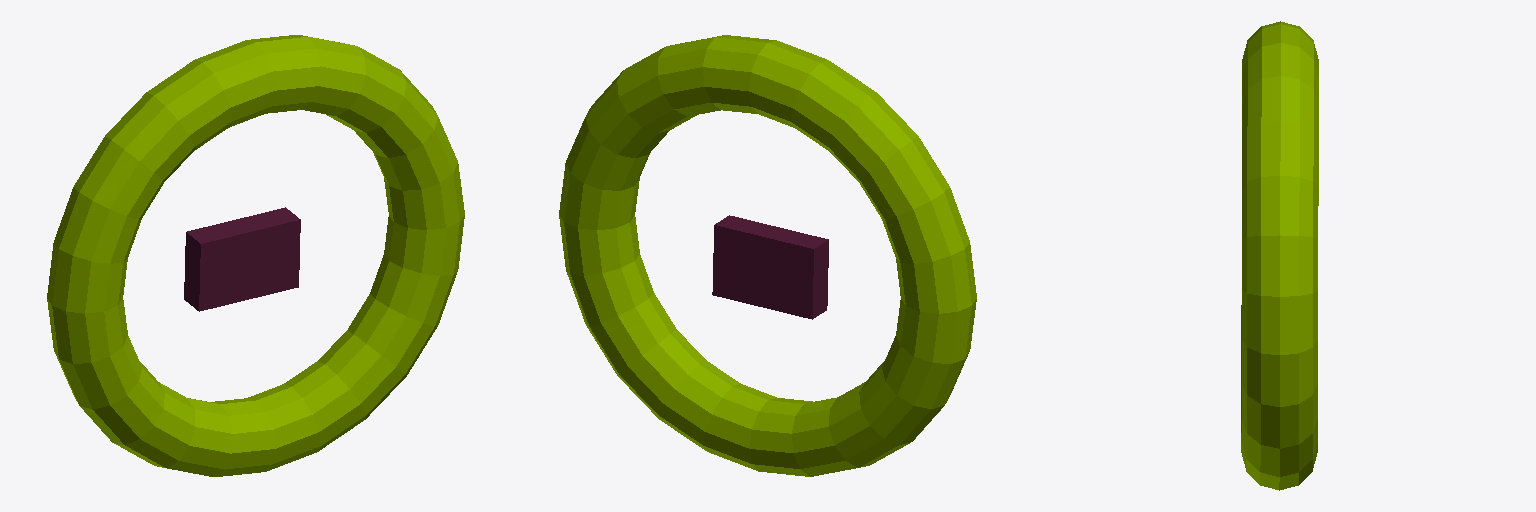
Rendered from lftire.obj.
The picture shows the model from 3 angles: view 1: azimuth 30°, elevation 25°; view 2: azimuth 150°, elevation 25°; view 3: azimuth 270°, elevation 25°; orthographic projection.
Parts seen in each view (by area): view 1: l_f_tire_002, l_f_tire_001; view 2: l_f_tire_002, l_f_tire_001; view 3: l_f_tire_002.
Part boxes in pixels (bbox=[...]): l_f_tire_002: bbox=[47, 35, 464, 476]; l_f_tire_001: bbox=[184, 207, 300, 311]; l_f_tire_002: bbox=[559, 35, 976, 476]; l_f_tire_001: bbox=[712, 215, 828, 319]; l_f_tire_002: bbox=[1241, 21, 1318, 490].
Size of the model in its own units: 6.52 by 6.52 by 1.07.